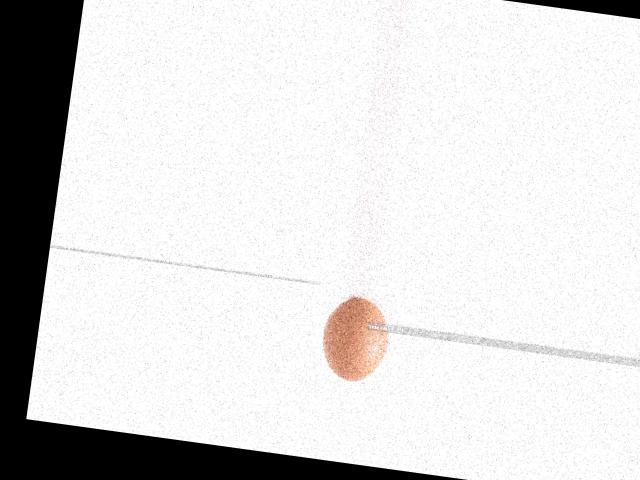egg: (318, 295, 393, 385)
